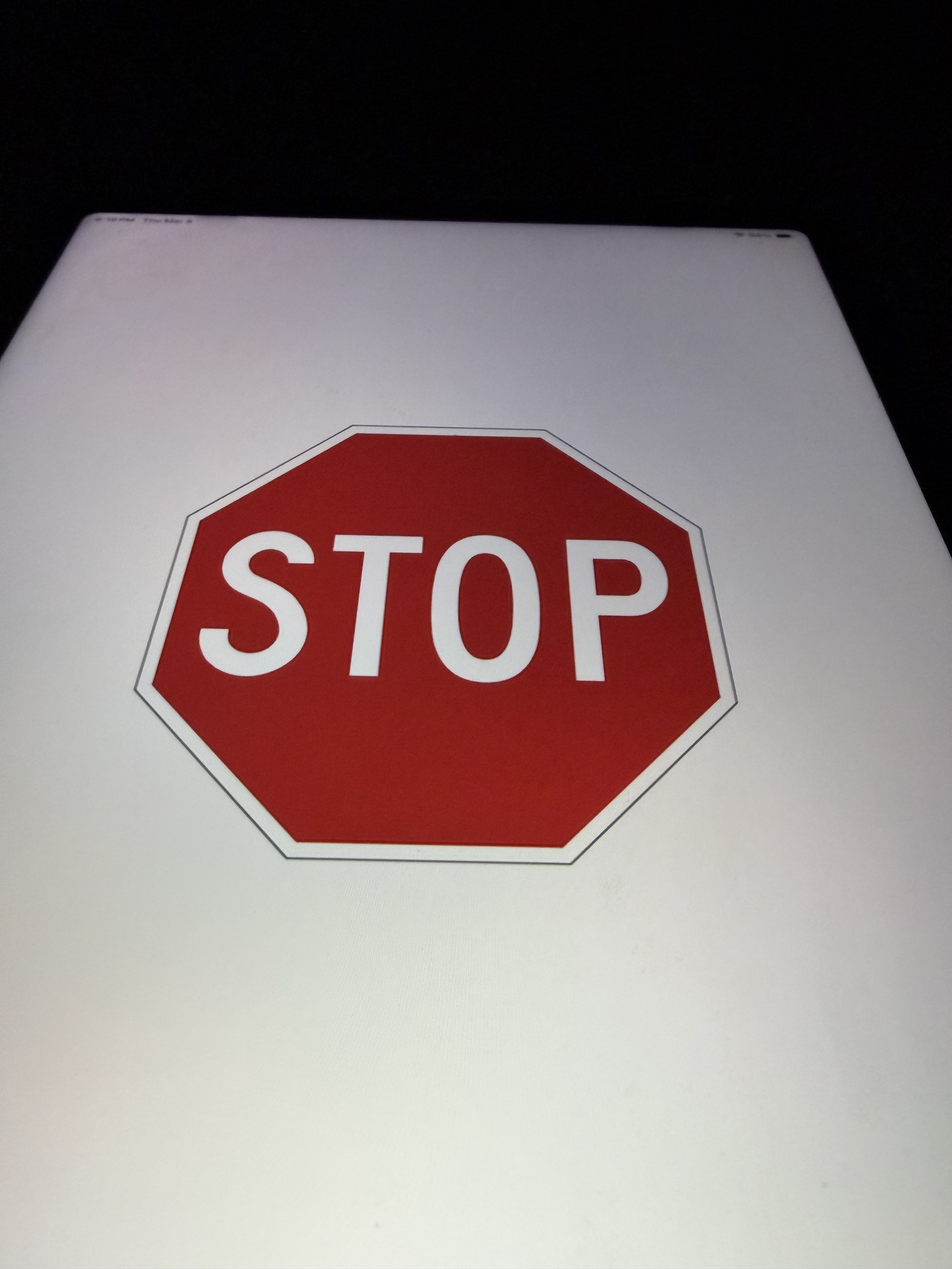STOP: (105, 572, 551, 1152)
